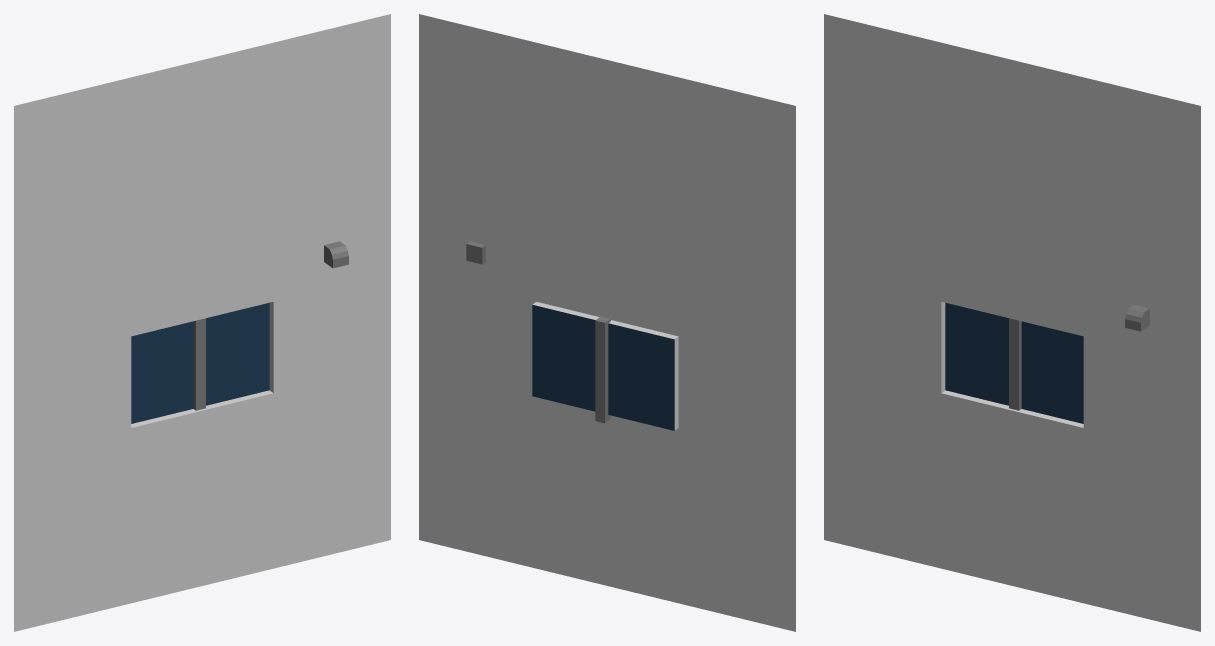
The model's file is mid-w1.fbx.
3 renders of one model, left to right at view 1: azimuth 30°, elevation 25°; view 2: azimuth 150°, elevation 25°; view 3: azimuth 330°, elevation 25°, orthographic.
Parts seen in each view (by area): view 1: base-w1.001; view 2: base-w1.001; view 3: base-w1.001.
Boxes of the visible parts, x1,y1,x2,y2 form: base-w1.001: (14, 14, 390, 631); base-w1.001: (419, 14, 795, 631); base-w1.001: (824, 14, 1200, 631).
Size of the model in its own units: 3 by 4 by 0.2229.
